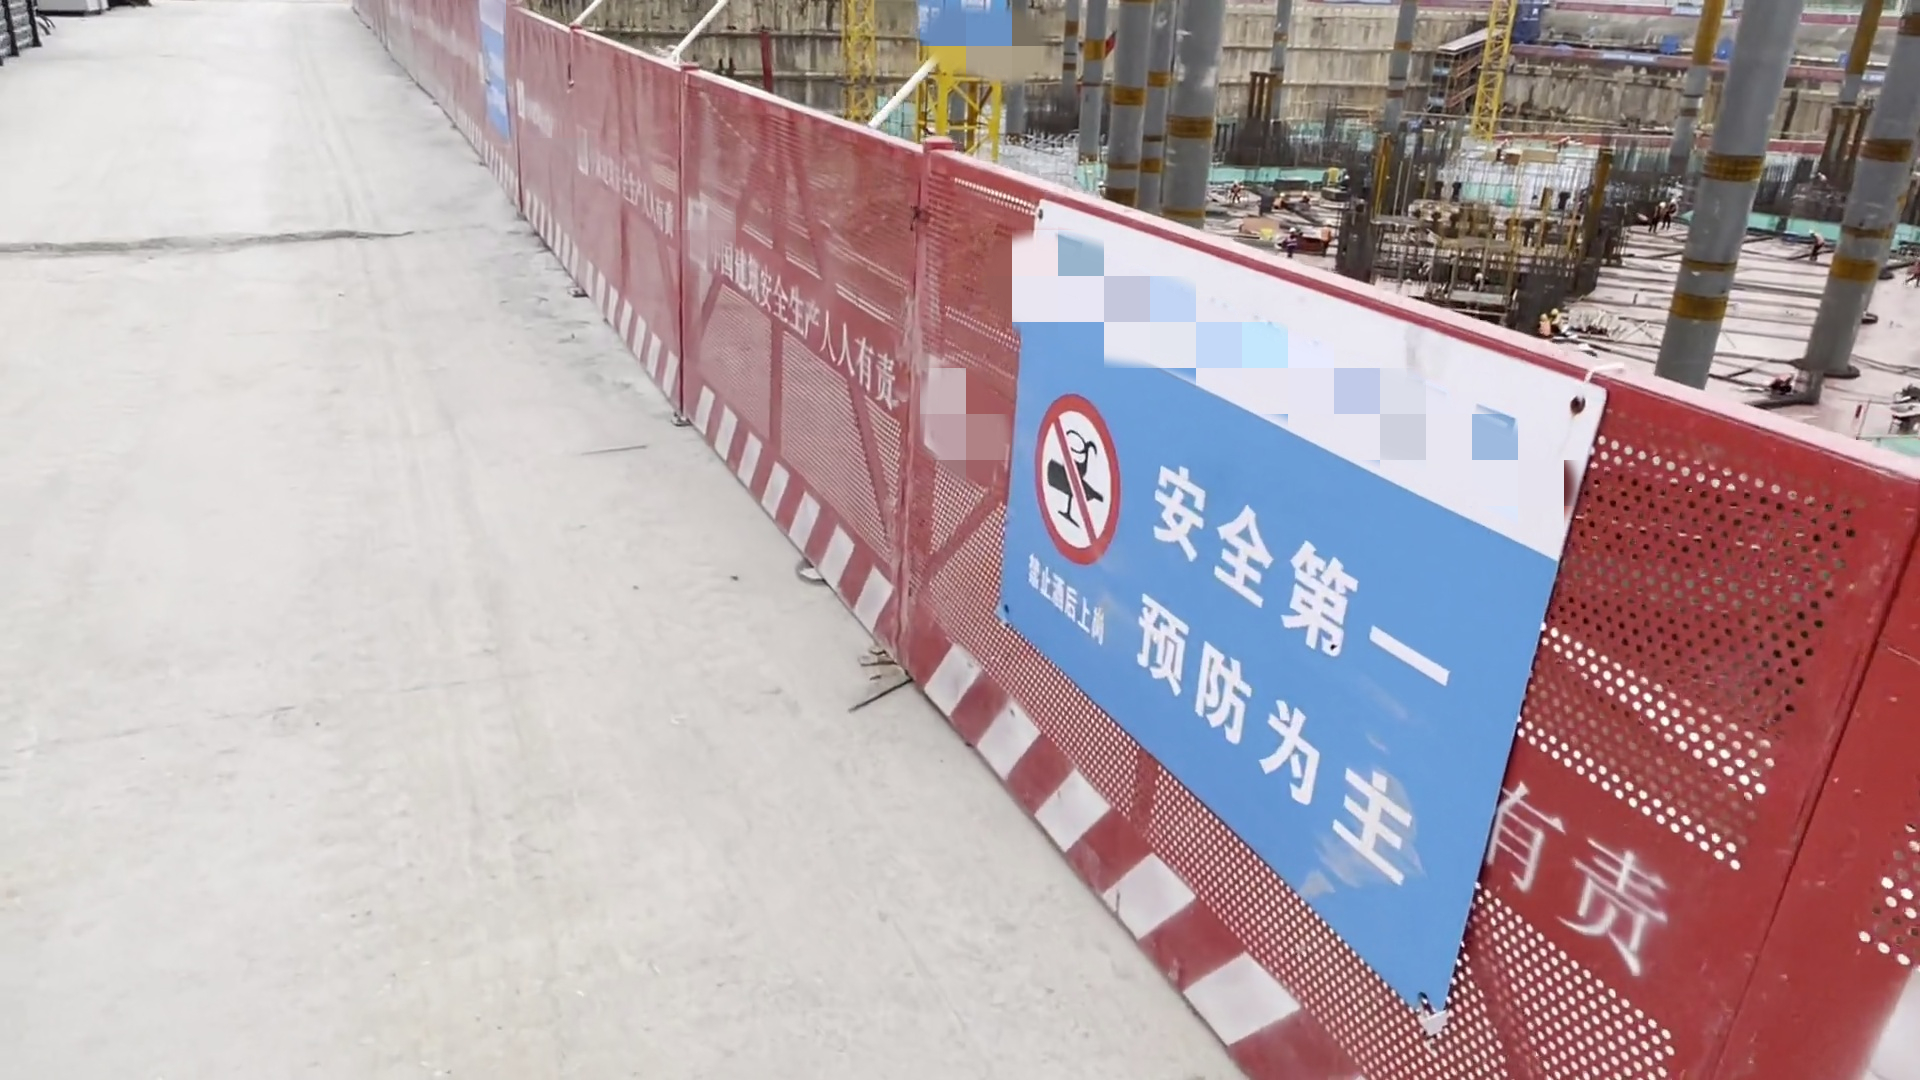fence: (345, 15, 1882, 1054)
slogan: (992, 194, 1552, 1031)
